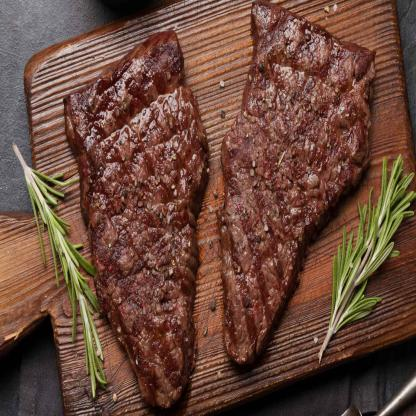Carne: (61, 23, 214, 415), (216, 0, 375, 374)
